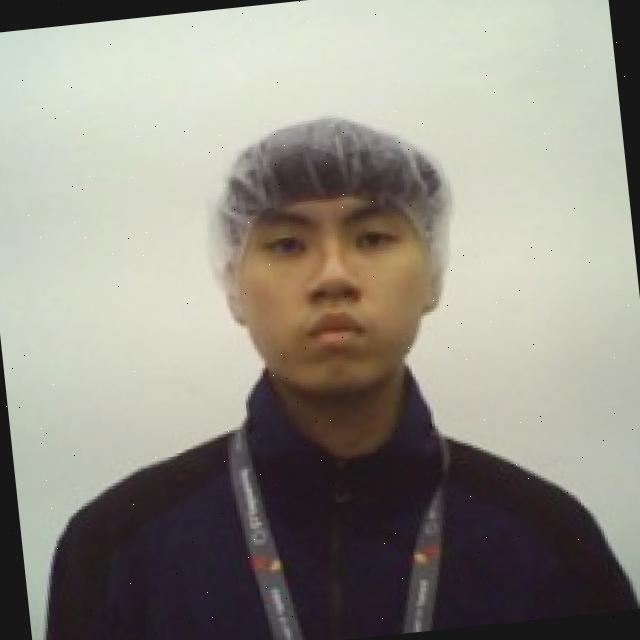gloves: (187, 100, 482, 332)
no_hairnet: (218, 232, 460, 413)
